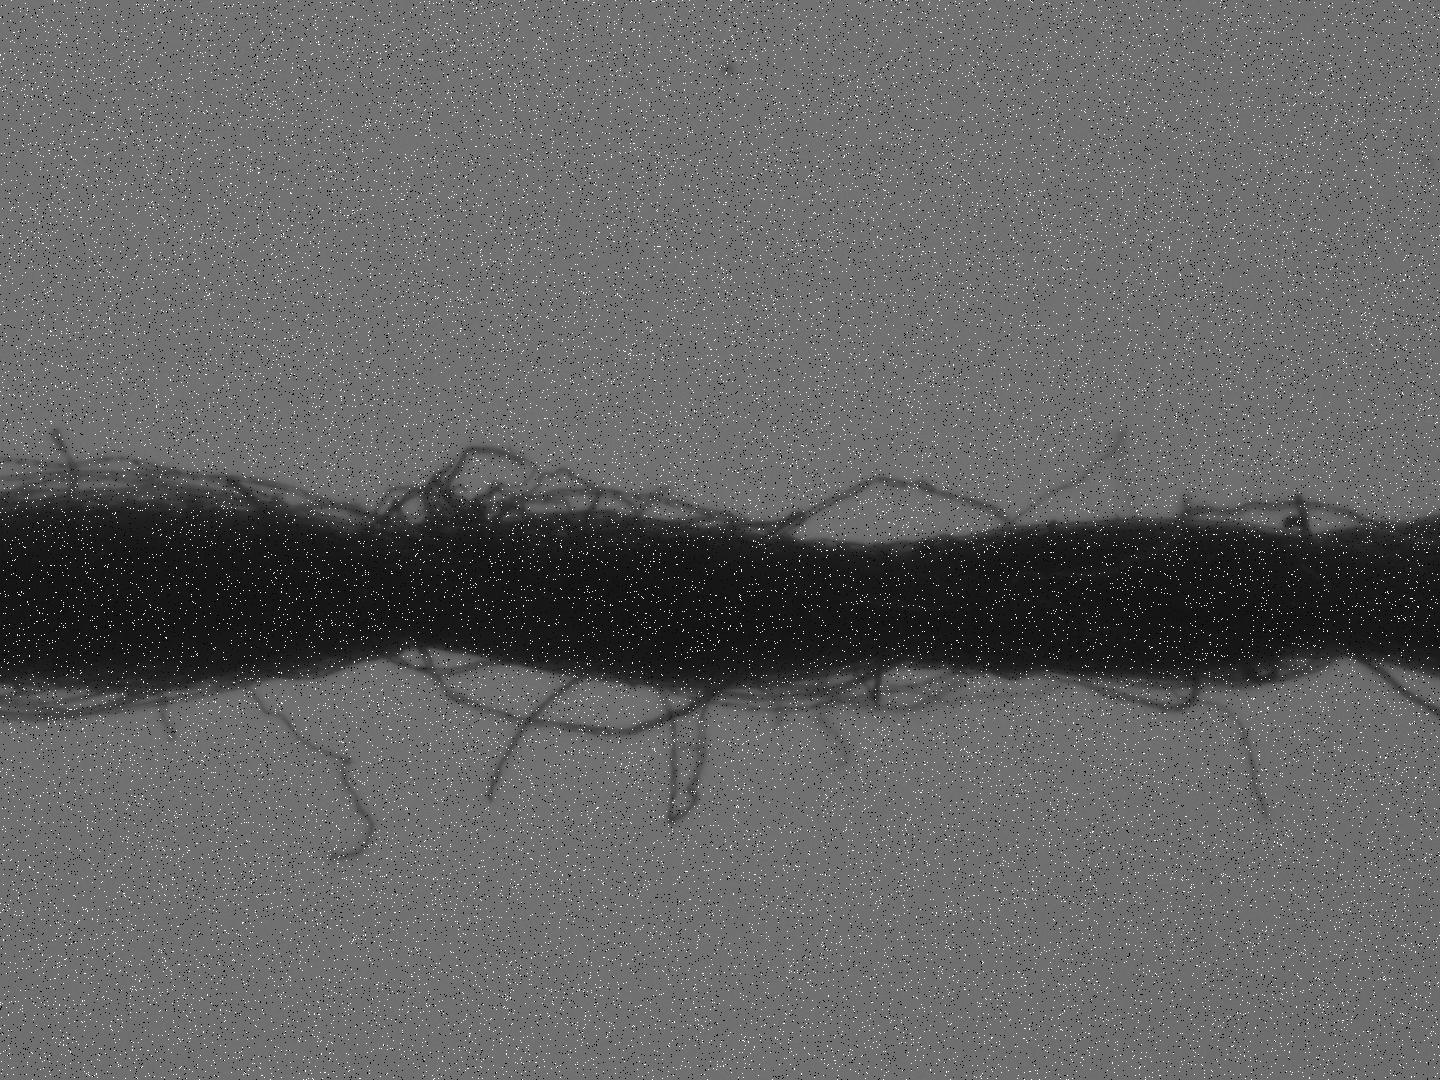loop_fiber: (372, 628, 773, 830), (342, 441, 810, 562), (1025, 492, 1434, 582), (768, 475, 1014, 546), (12, 471, 279, 516), (1071, 655, 1205, 719), (702, 663, 896, 702), (373, 649, 509, 672), (1239, 660, 1282, 690)
protruding_fiber: (237, 678, 374, 867), (472, 661, 610, 813)
